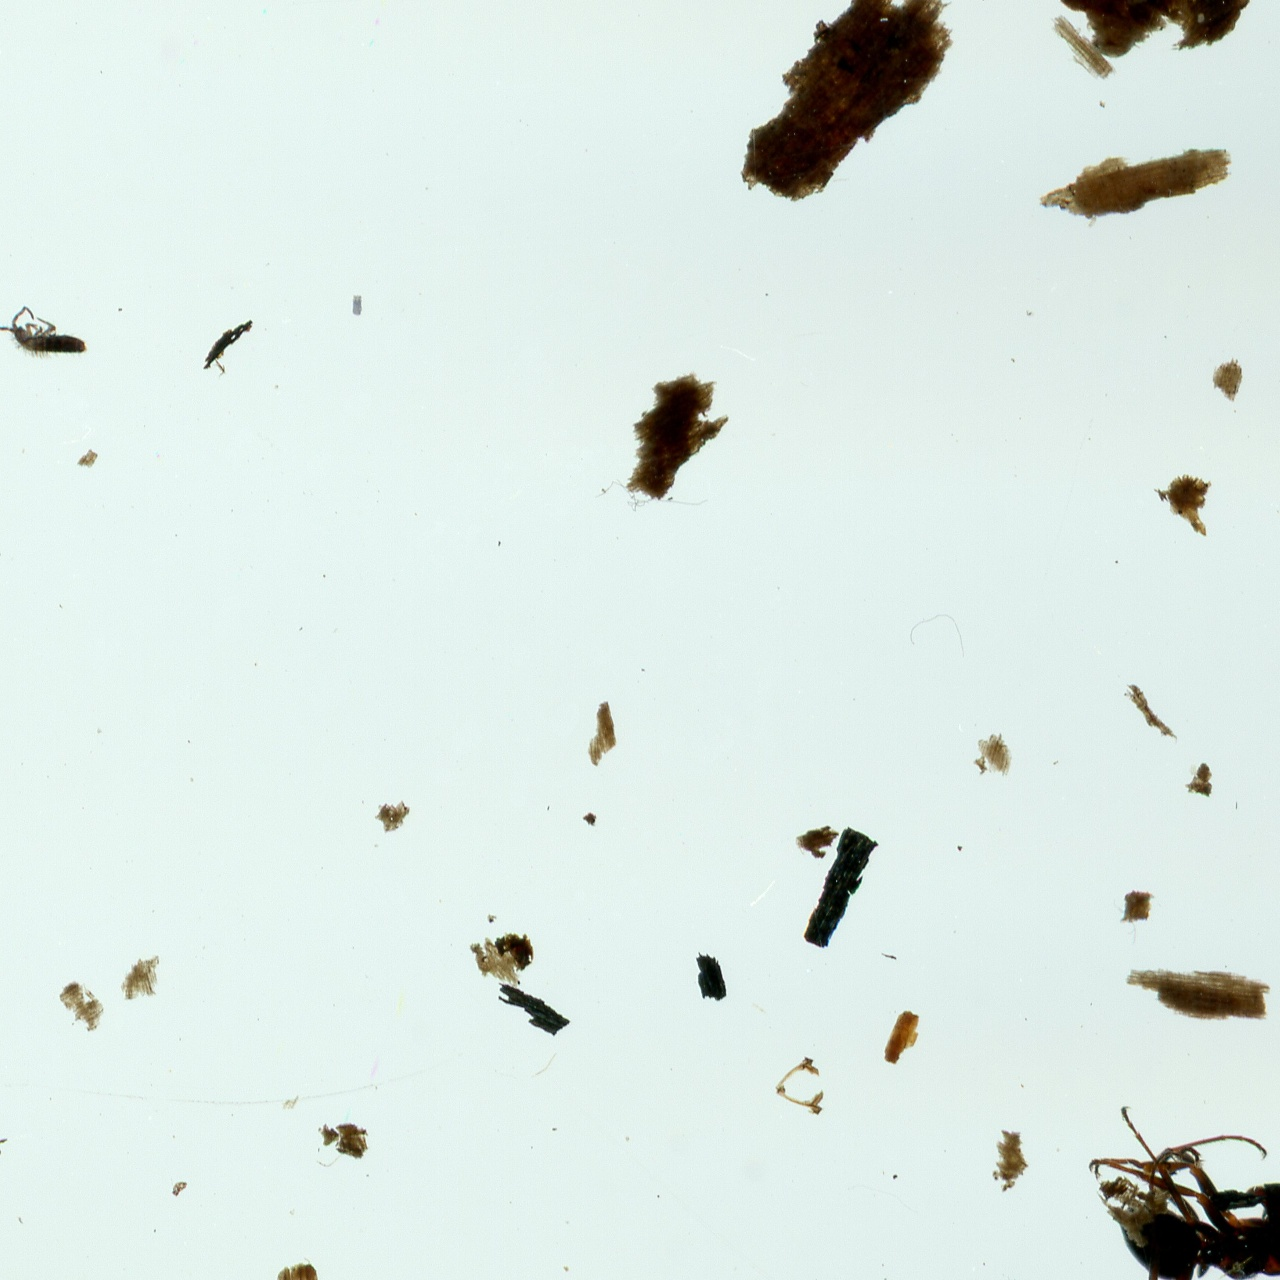arthropod: (1082, 1097, 1280, 1280), (0, 302, 94, 363)
